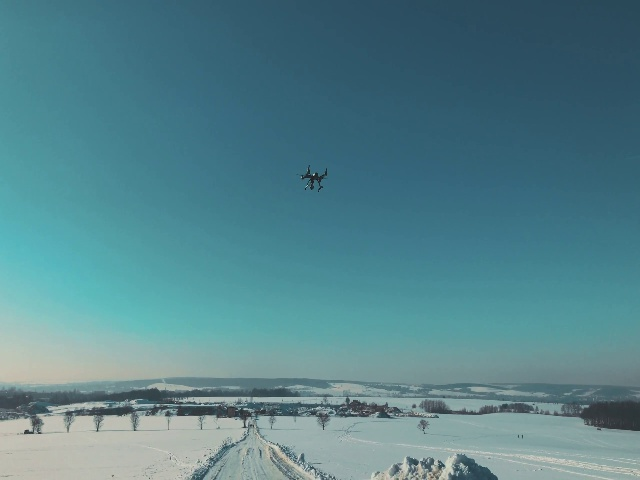drone: (294, 163, 331, 194)
